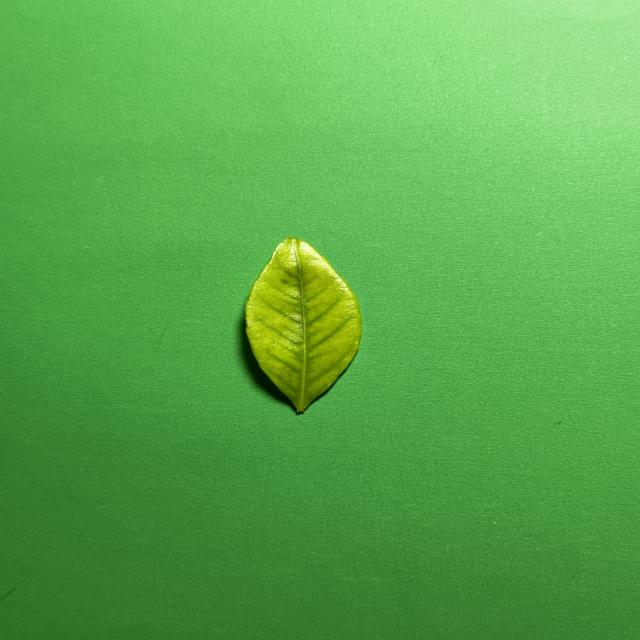greening: (246, 237, 361, 411)
